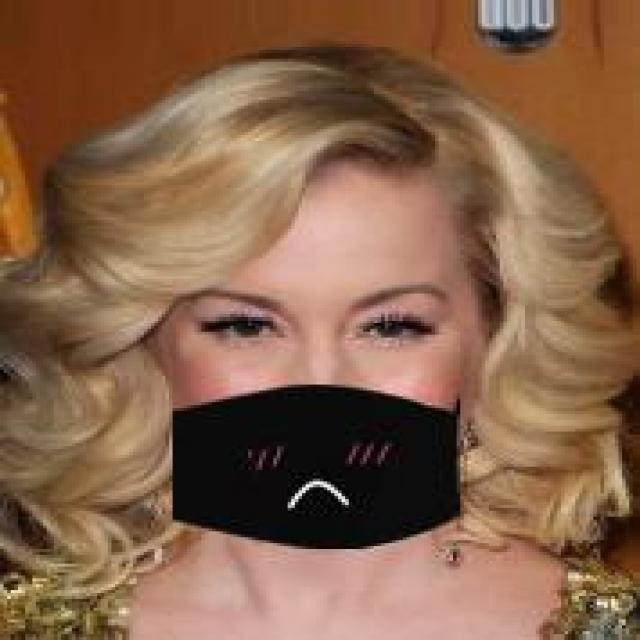mask: (58, 74, 593, 566)
